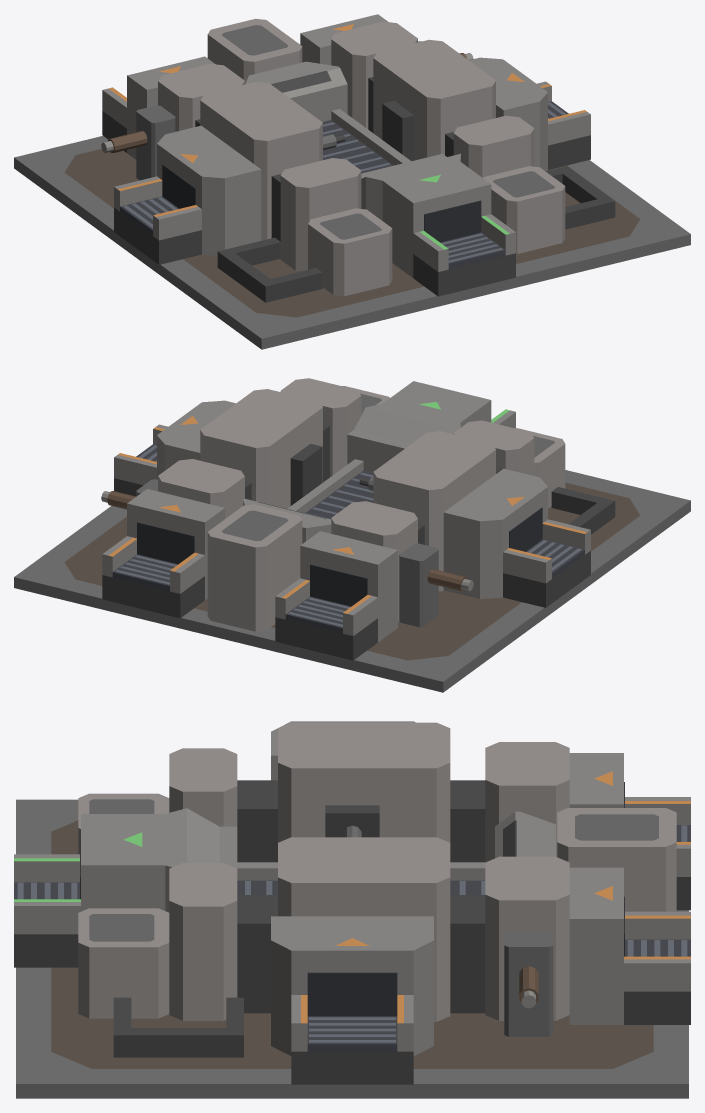
Rendered from vfef_assembler.obj.
3 views of the same model, one above another, from view 1: azimuth 30°, elevation 25°; view 2: azimuth 150°, elevation 25°; view 3: azimuth 270°, elevation 25° (orthographic). The views are drawn at different scales.
Visible parts, largest first — view 1: vfef_assembler_0, vfef_assembler_60, vfef_assembler_1, vfef_assembler_29, vfef_assembler_48, vfef_assembler_17, vfef_assembler_31, vfef_assembler_32, vfef_assembler_63, vfef_assembler_62, vfef_assembler_58, vfef_assembler_79 (+35 smaller); view 2: vfef_assembler_0, vfef_assembler_60, vfef_assembler_15, vfef_assembler_1, vfef_assembler_29, vfef_assembler_48, vfef_assembler_17, vfef_assembler_38, vfef_assembler_69, vfef_assembler_27, vfef_assembler_58, vfef_assembler_62 (+31 smaller); view 3: vfef_assembler_0, vfef_assembler_1, vfef_assembler_29, vfef_assembler_60, vfef_assembler_79, vfef_assembler_17, vfef_assembler_62, vfef_assembler_58, vfef_assembler_69, vfef_assembler_63, vfef_assembler_15, vfef_assembler_27 (+35 smaller).
Part boxes in pixels (x1=…): vfef_assembler_0: x1=14, y1=136, x2=690, y2=349; vfef_assembler_60: x1=373, y1=39, x2=495, y2=160; vfef_assembler_1: x1=64, y1=149, x2=640, y2=317; vfef_assembler_29: x1=200, y1=82, x2=322, y2=240; vfef_assembler_48: x1=157, y1=125, x2=261, y2=255; vfef_assembler_17: x1=361, y1=153, x2=491, y2=277; vfef_assembler_31: x1=280, y1=158, x2=361, y2=271; vfef_assembler_32: x1=308, y1=208, x2=392, y2=296; vfef_assembler_63: x1=483, y1=166, x2=565, y2=253; vfef_assembler_62: x1=453, y1=115, x2=534, y2=177; vfef_assembler_58: x1=331, y1=21, x2=417, y2=129; vfef_assembler_79: x1=469, y1=57, x2=547, y2=171; vfef_assembler_0: x1=14, y1=470, x2=690, y2=692; vfef_assembler_60: x1=200, y1=389, x2=322, y2=508; vfef_assembler_15: x1=207, y1=504, x2=302, y2=631; vfef_assembler_1: x1=64, y1=482, x2=640, y2=660; vfef_assembler_29: x1=373, y1=431, x2=495, y2=591; vfef_assembler_48: x1=443, y1=468, x2=547, y2=599; vfef_assembler_17: x1=347, y1=381, x2=491, y2=472; vfef_assembler_38: x1=300, y1=531, x2=397, y2=642; vfef_assembler_69: x1=127, y1=489, x2=224, y2=599; vfef_assembler_27: x1=331, y1=501, x2=417, y2=621; vfef_assembler_58: x1=158, y1=459, x2=244, y2=518; vfef_assembler_62: x1=280, y1=378, x2=361, y2=476; vfef_assembler_0: x1=16, y1=799, x2=688, y2=1098; vfef_assembler_1: x1=51, y1=820, x2=653, y2=1068; vfef_assembler_29: x1=278, y1=722, x2=450, y2=842; vfef_assembler_60: x1=278, y1=837, x2=450, y2=1021; vfef_assembler_79: x1=271, y1=916, x2=433, y2=1055; vfef_assembler_17: x1=81, y1=808, x2=237, y2=912; vfef_assembler_62: x1=169, y1=863, x2=237, y2=1020; vfef_assembler_58: x1=485, y1=856, x2=569, y2=1020; vfef_assembler_69: x1=569, y1=867, x2=623, y2=1024; vfef_assembler_63: x1=78, y1=908, x2=169, y2=1018; vfef_assembler_15: x1=557, y1=808, x2=676, y2=911; vfef_assembler_27: x1=485, y1=742, x2=569, y2=862.
Size of the model in its own units: 4.99 by 1.25 by 4.99.
